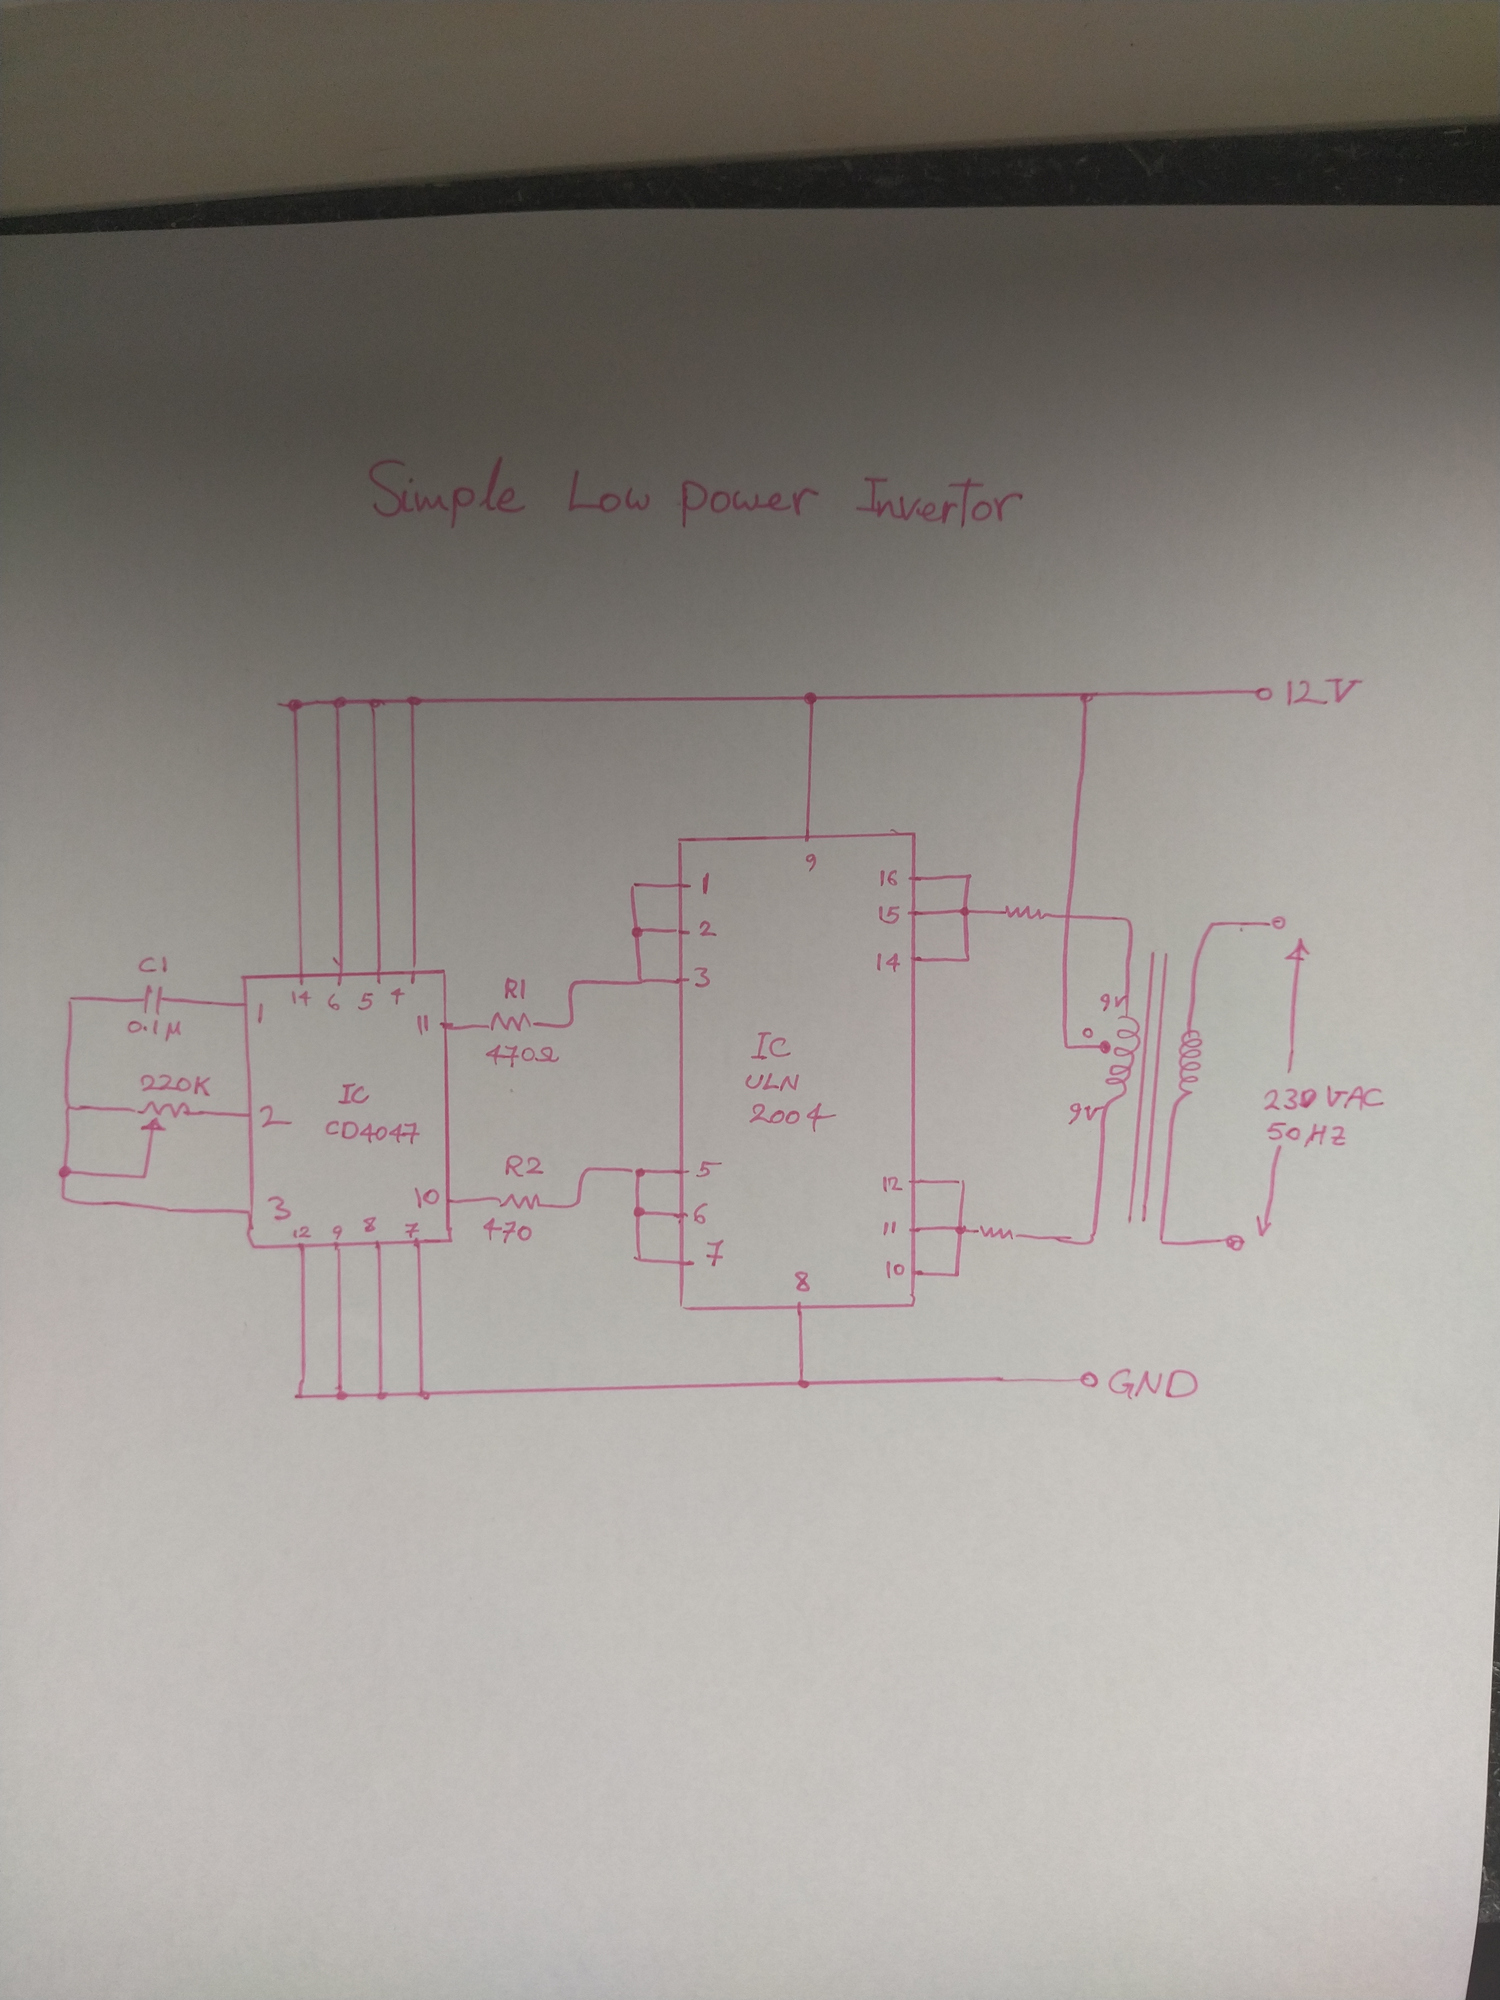capacitor.unpolarized: (139, 983, 169, 1016)
crossover: (1060, 910, 1075, 921)
integrated_circuit: (670, 824, 926, 1317), (236, 957, 462, 1257)
junction: (276, 698, 306, 713), (366, 696, 388, 712), (403, 693, 424, 709), (331, 694, 348, 712), (802, 690, 819, 707), (1078, 690, 1097, 706), (332, 1386, 350, 1402), (629, 1165, 648, 1180), (629, 924, 644, 940), (632, 1252, 648, 1268), (1086, 1231, 1101, 1247), (416, 1387, 433, 1402), (630, 1205, 648, 1219), (57, 1165, 72, 1180), (796, 1376, 811, 1391), (373, 1389, 391, 1402), (953, 1224, 971, 1236), (578, 1164, 592, 1178), (1204, 918, 1218, 932), (956, 906, 972, 918), (291, 1391, 309, 1402), (61, 1099, 74, 1113), (566, 976, 578, 991), (627, 879, 640, 891), (564, 1017, 577, 1030), (570, 1198, 583, 1211), (1157, 1235, 1169, 1247), (633, 976, 648, 987), (955, 1176, 969, 1187), (1122, 915, 1134, 926), (1060, 1041, 1071, 1054), (961, 953, 974, 964), (65, 994, 76, 1005), (58, 1194, 69, 1205), (952, 1269, 963, 1280), (139, 1172, 151, 1181), (963, 872, 974, 882)
resistor: (485, 1009, 537, 1035), (495, 1191, 544, 1213), (1004, 902, 1049, 921), (975, 1224, 1019, 1243)
resistor.adjustable: (132, 1099, 197, 1132)
terminal: (1221, 1231, 1246, 1254), (1076, 1369, 1100, 1391), (1264, 913, 1289, 932), (1253, 685, 1275, 702)
text: (362, 450, 1027, 532), (1105, 1365, 1201, 1402), (1261, 1083, 1387, 1110), (747, 1099, 838, 1134), (323, 1118, 422, 1146), (1284, 676, 1364, 709), (1264, 1120, 1349, 1150), (484, 1043, 561, 1071), (139, 1071, 213, 1099), (747, 1028, 796, 1063), (481, 1216, 533, 1247), (126, 1017, 183, 1044), (744, 1069, 802, 1093), (503, 1153, 547, 1180), (255, 1102, 296, 1129), (1065, 1101, 1105, 1126), (334, 1080, 370, 1107), (265, 1194, 293, 1222), (703, 1236, 726, 1269), (136, 953, 170, 975), (501, 975, 528, 1003), (411, 1184, 441, 1209), (874, 950, 901, 975), (791, 1268, 815, 1294), (876, 902, 903, 926), (1098, 991, 1127, 1013), (693, 1159, 723, 1180), (879, 1173, 906, 1195), (692, 964, 714, 991), (878, 866, 901, 890), (882, 1258, 908, 1280), (690, 1200, 711, 1227), (696, 869, 715, 898), (696, 918, 720, 940), (288, 987, 312, 1009), (356, 989, 377, 1013), (802, 850, 821, 876), (414, 1013, 433, 1038), (879, 1217, 901, 1238), (254, 998, 269, 1027), (326, 991, 343, 1013), (389, 984, 407, 1006), (402, 1220, 421, 1239), (361, 1214, 378, 1235), (291, 1224, 314, 1239), (329, 1222, 345, 1243), (1081, 1025, 1095, 1039)
transformer: (1089, 950, 1205, 1227)
